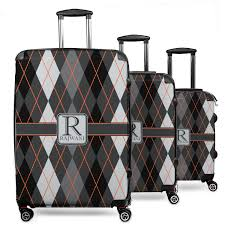suitcase: (12, 6, 132, 225), (115, 34, 178, 204), (164, 45, 220, 194)
